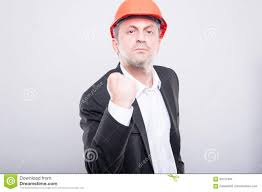Person_wearing_helmet: (108, 0, 168, 40)
